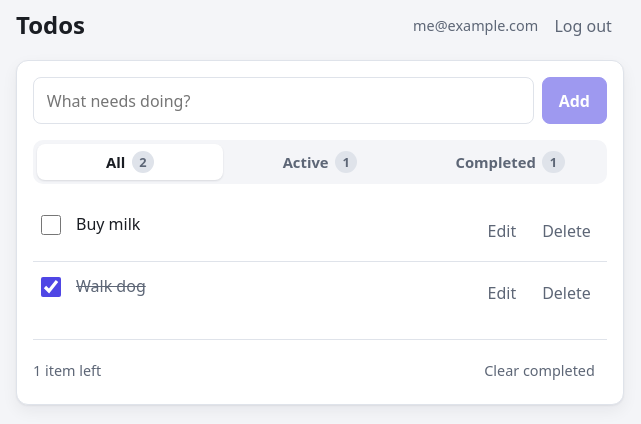
Test: TodosPage › marks a todo done right away and tells the server
The width and height of the screenshot is (641, 424).
Click the checkbox named "Buy milk" at (51, 225), box [41,215,61,235]
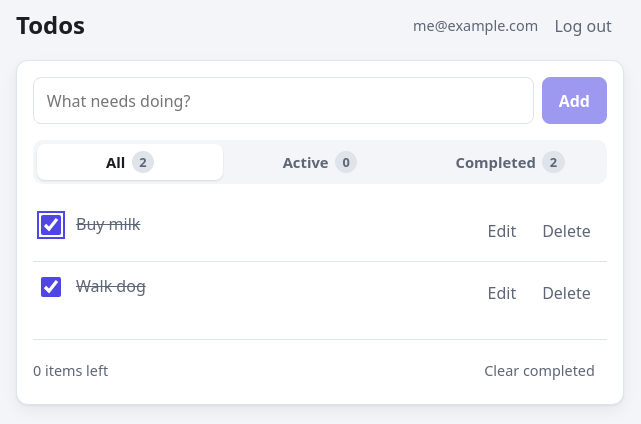
Expected: the checkbox named "Buy milk" is checked, [41,215,61,235]
Expected: the text "0 items left" is shown, [33,360,108,381]
